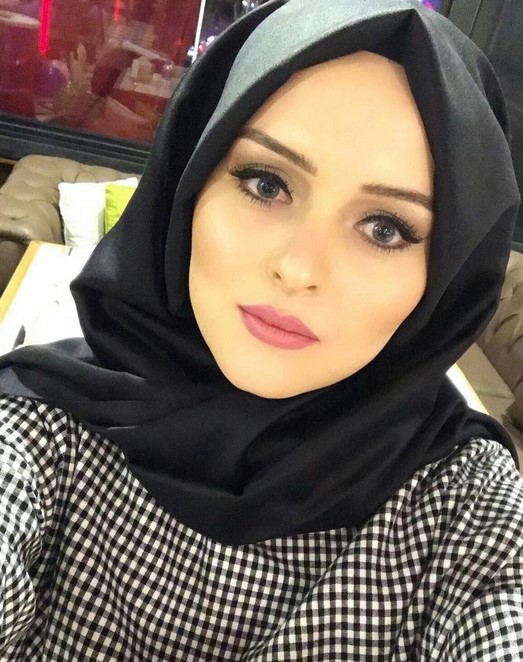face_no_mask: (183, 22, 447, 405)
